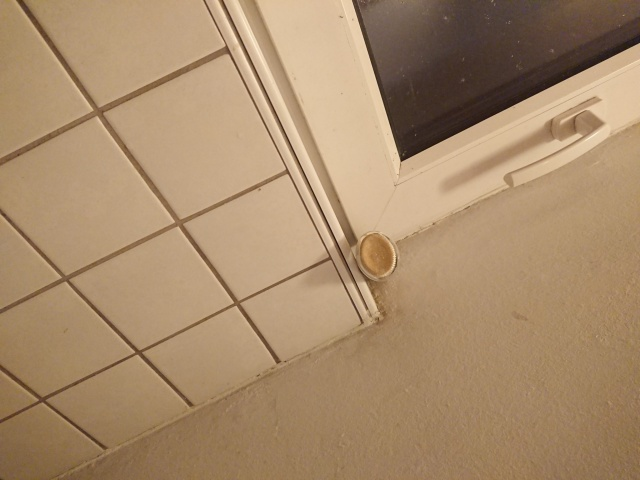Kotanyi Garlic Granules 70g: (354, 230, 402, 284)
